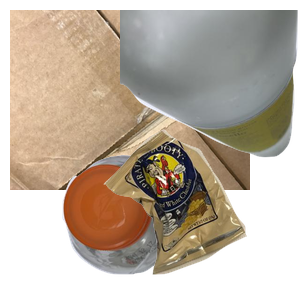cardboard: (10, 10, 250, 190)
glass: (120, 10, 300, 160)
plastic: (60, 152, 237, 300)
trash: (101, 127, 300, 300)
